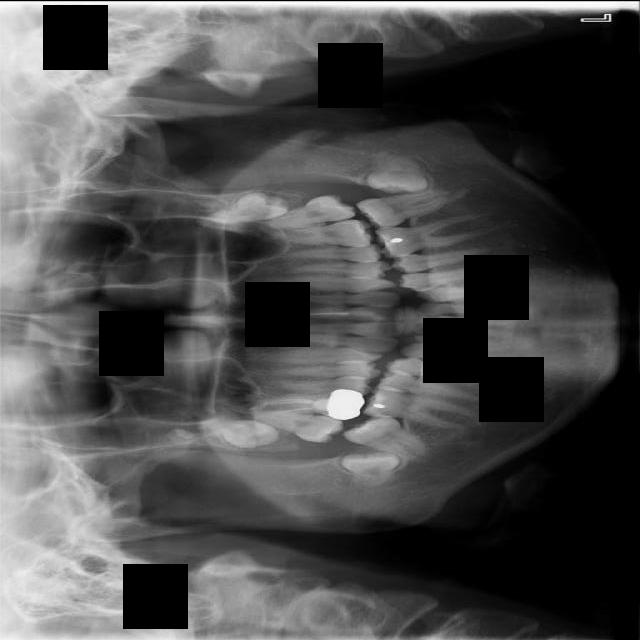3M ESPE Implant: (198, 415, 281, 451)
52: (342, 404, 403, 455), (362, 380, 412, 426), (372, 217, 421, 263), (325, 384, 368, 425)
73: (255, 390, 334, 418), (266, 307, 354, 322), (578, 52, 590, 56)
BioHorizons Implant: (247, 189, 358, 238)
BioLife Implant: (206, 188, 290, 225)
Biomet 3i Implant: (365, 147, 433, 200)
Blue Sky Bio Implant: (356, 186, 461, 232)
Caries: (250, 406, 345, 445)
Implant: (341, 402, 437, 467)
Keystone Dental Implant: (341, 450, 401, 489)
